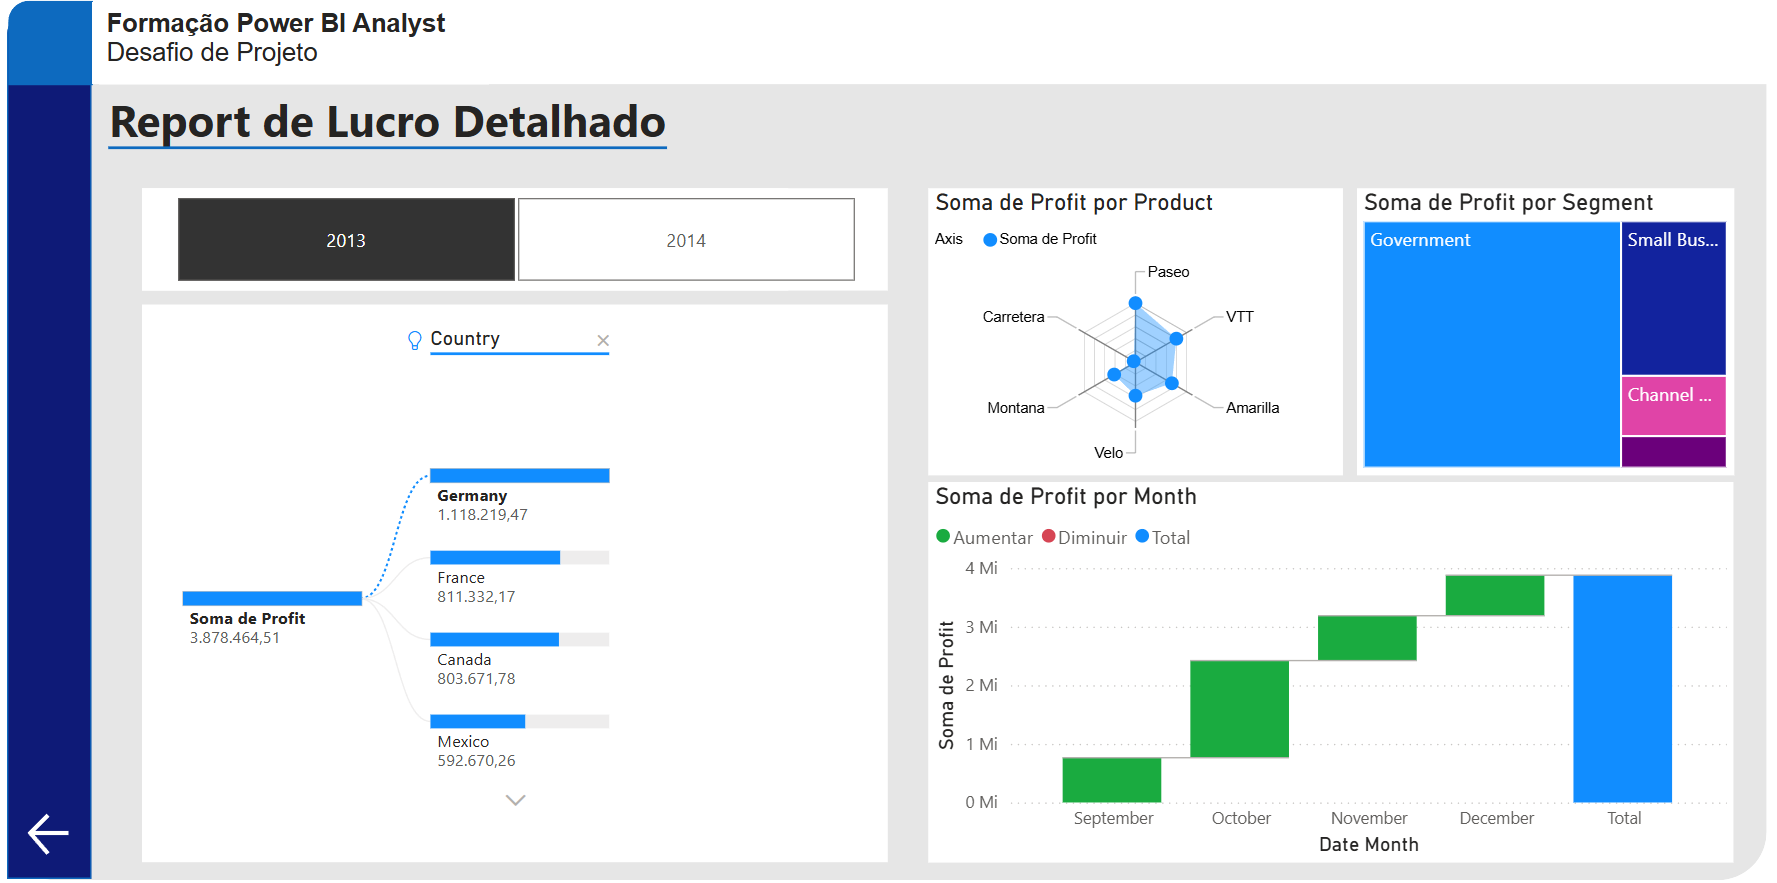

This screenshot's page, from the dashboard's own definition file:
{"tool":"powerbi","page":{"name":"Página 2","canvas":[1280,720],"ordinal":1},"visuals":[{"type":"shape","box":[0,19.7,1280,629.8],"z":0},{"type":"shape","box":[0,19.3,61.5,629.8],"z":1000},{"type":"shape","box":[1.2,9.7,61.5,61.5],"z":2000},{"type":"shape","box":[61.5,10.9,1218.5,60.3],"z":3000},{"type":"textbox","box":[68.8,70,451.2,62.7],"z":4000},{"type":"textbox","box":[67.6,10.9,283.5,60.3],"z":5000},{"type":"shape","box":[73.6,111,406.6,12.1],"z":6000},{"type":"shape","box":[98.1,146.5,470.4,74.5],"z":7000},{"type":"RadarChart1446119667547","fields":{"Y":["Sum(financials.Profit)"],"Category":["financials.Product"]},"box":[670.3,146.5,301.6,208.5],"z":8000},{"type":"treemap","fields":{"Values":["Sum(financials.Profit)"],"Group":["financials.Segment"]},"box":[981.9,146.5,274.3,208.5],"z":9000},{"type":"waterfallChart","fields":{"Y":["Sum(financials.Profit)"],"Category":["financials.Date.Variation.Date Hierarchy.Month"]},"box":[670.3,360,585.9,276.8],"z":10000},{"type":"decompositionTreeVisual","fields":{"Analyze":["Sum(financials.Profit)"],"ExplainBy":["financials.Country"]},"box":[98.1,230.9,542.4,405.9],"z":11000},{"type":"slicer","fields":{"Values":["financials.Date.Variation.Date Hierarchy.Year"]},"box":[98.1,146.5,542.4,74.5],"z":12000},{"type":"actionButton","box":[10.9,596,100.1,39.8],"z":12001}]}

Visuals, with their boxes on the page's 1280x720 design canvas (x1, y1, x2, y2). These are canvas units, not pixel positions in the 1777x883 screenshot, which may show the page scaled, cropped or inside an application window:
shape: crop(0, 20, 1280, 650)
shape: crop(0, 19, 62, 649)
shape: crop(1, 10, 63, 71)
shape: crop(62, 11, 1280, 71)
textbox: crop(69, 70, 520, 133)
textbox: crop(68, 11, 351, 71)
shape: crop(74, 111, 480, 123)
shape: crop(98, 146, 568, 221)
RadarChart1446119667547 - Sum(financials.Profit) x financials.Product: crop(670, 146, 972, 355)
treemap - Sum(financials.Profit) x financials.Segment: crop(982, 146, 1256, 355)
waterfallChart - Sum(financials.Profit) x financials.Date.Variation.Date Hierarchy.Month: crop(670, 360, 1256, 637)
decompositionTreeVisual - Sum(financials.Profit) x financials.Country: crop(98, 231, 640, 637)
slicer - financials.Date.Variation.Date Hierarchy.Year: crop(98, 146, 640, 221)
actionButton: crop(11, 596, 111, 636)
